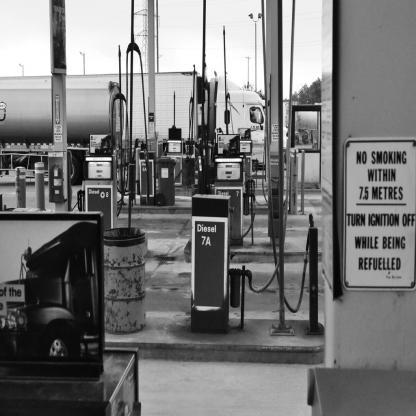truck: (5, 229, 112, 360)
